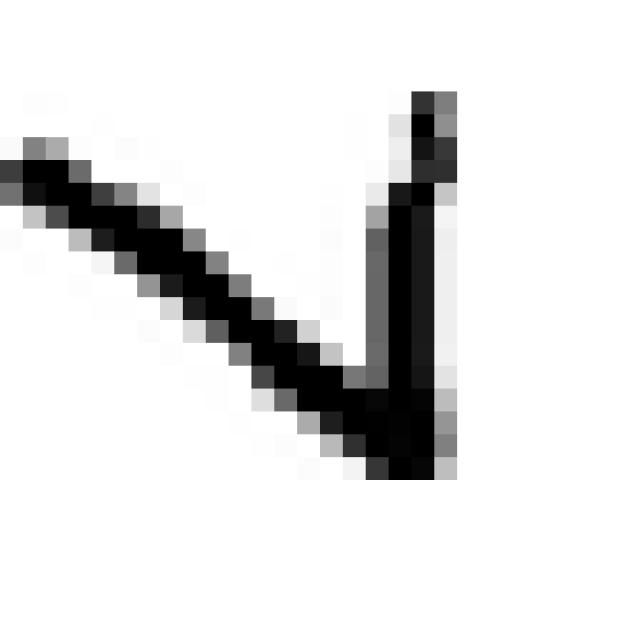7 -seven-: (0, 77, 485, 510)
